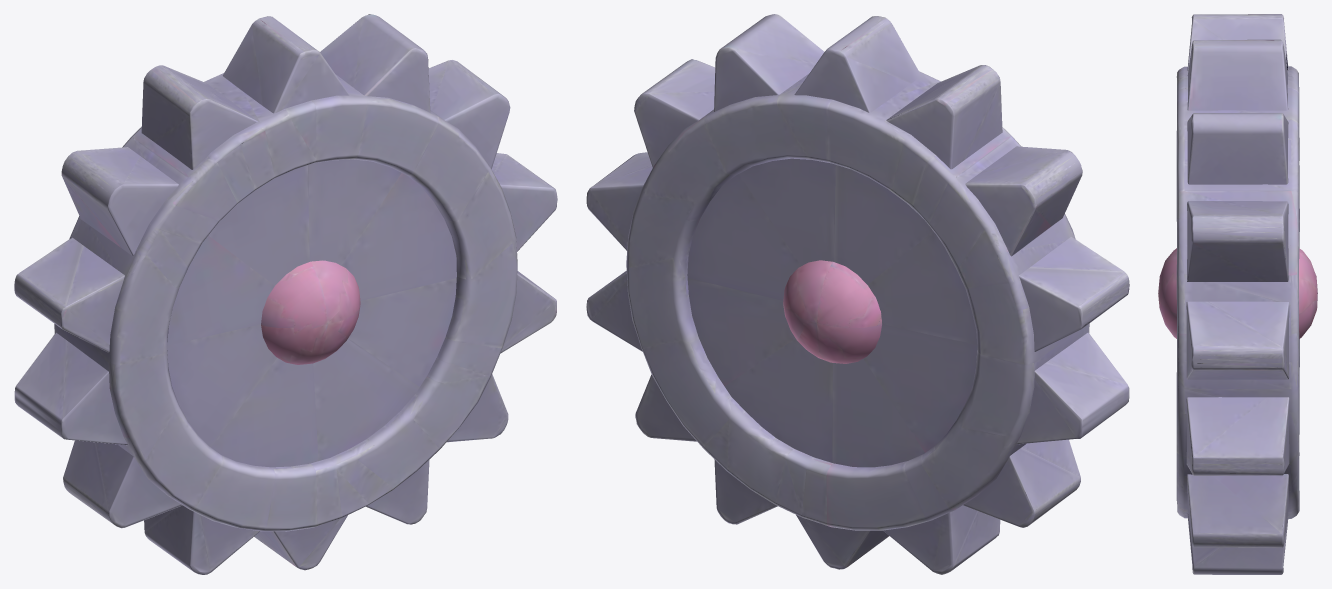
File: saw_blade.glb
3 renders of one model, left to right at view 1: azimuth 30°, elevation 25°; view 2: azimuth 150°, elevation 25°; view 3: azimuth 270°, elevation 25°, orthographic. The views are drawn at different scales.
Parts seen in each view (by area): view 1: geometry_0; view 2: geometry_0; view 3: geometry_0.
Boxes of the visible parts, x1=… form: geometry_0: x1=14, y1=14, x2=557, y2=574; geometry_0: x1=586, y1=14, x2=1129, y2=574; geometry_0: x1=1158, y1=14, x2=1317, y2=574.
Size of the model in its own units: 1 by 1 by 0.2896.
Materials: 1 (1 with a texture image).
